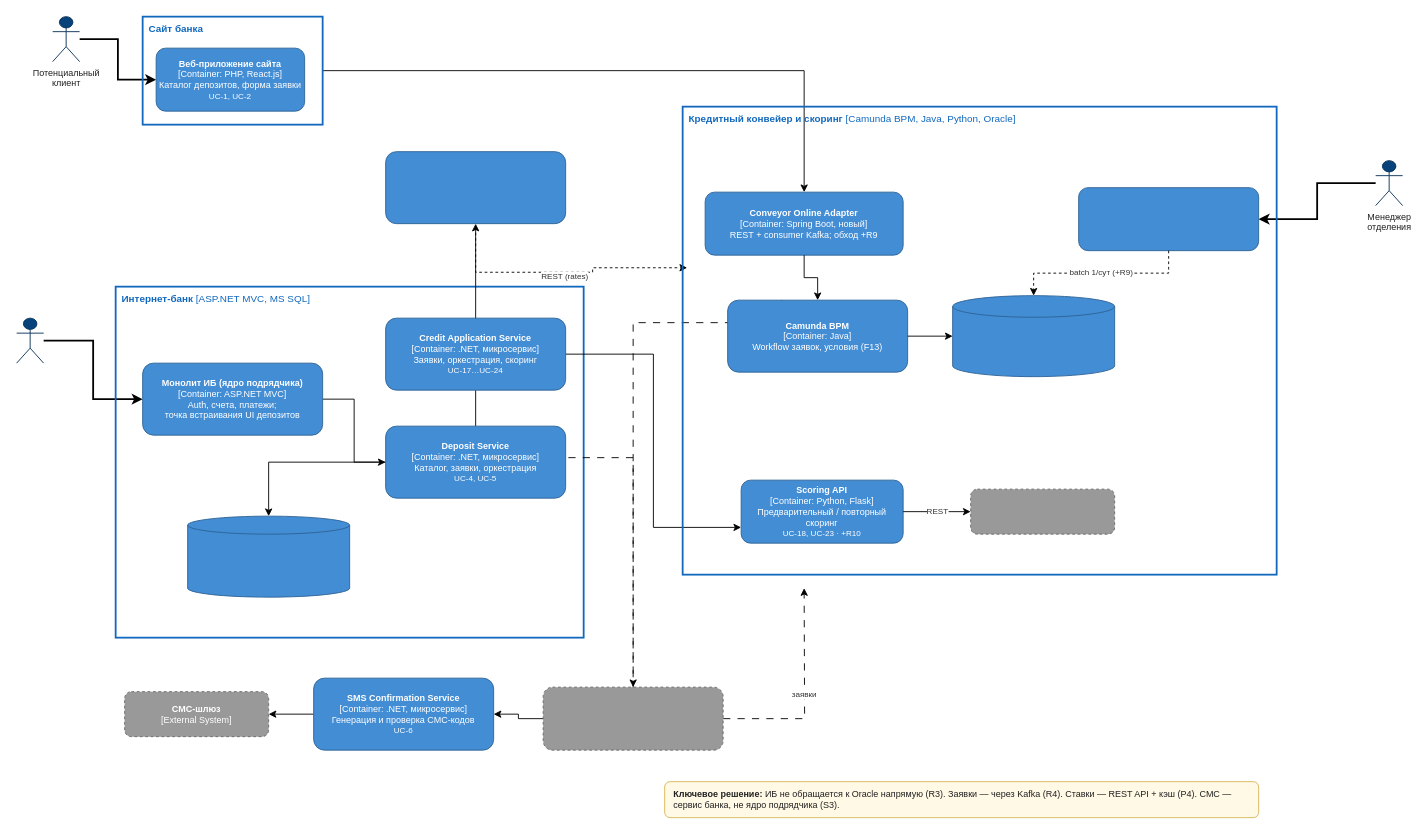
This 1427x833 diagram has some shape labels left out. The shapes that lost their labels are listed below. From the top down, each one's centre as x and y in pixels, then its label:
At [475,187]: "Rates Cache [Container: Redis] Кэш ставок и продуктов P4".
At [1168,219]: "Клиентское приложение АБС [Container: Delphi] Продолжение заявки (F18) UC-26".
At [30,340]: "Клиент банка".
At [1033,336]: "БД конвейера [Container: Oracle] Заявки, workflow".
At [1042,511]: "БКИ [External System]".
At [268,556]: "БД интернет-банка [Container: MS SQL] Данные монолита, статусы заявок".
At [632,718]: "Брокер сообщений Kafka +R4 · целевой брокер".
